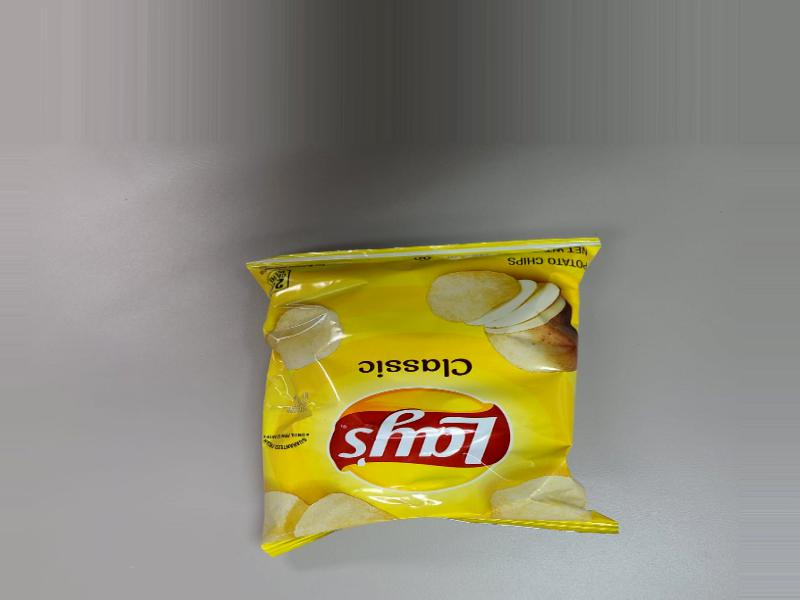lays: (261, 252, 583, 547)
